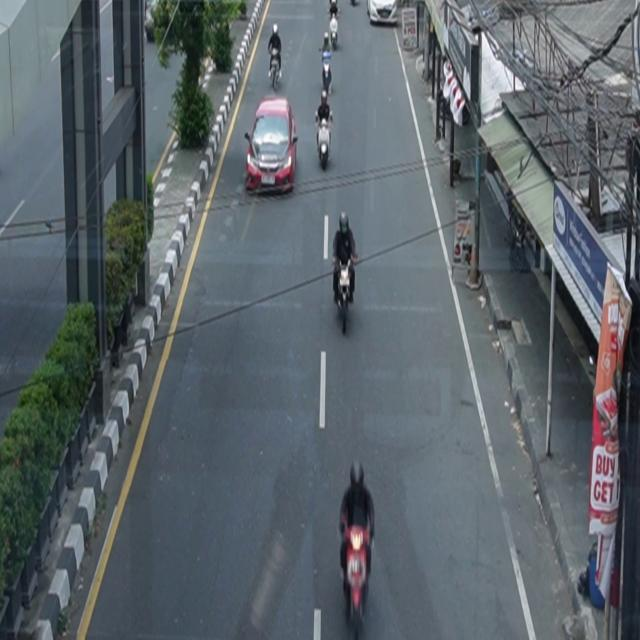car: (245, 98, 299, 195), (367, 1, 398, 26)
